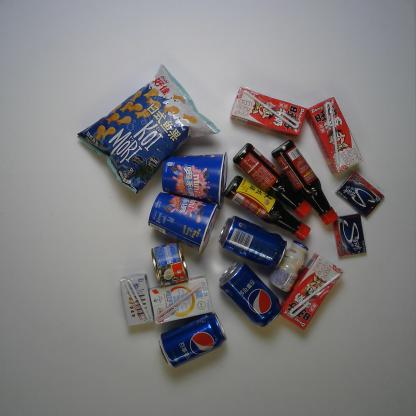Canned Food: (150, 239, 190, 288)
Dessert: (148, 192, 219, 257), (161, 151, 228, 210)
Drink: (218, 261, 283, 328), (158, 311, 227, 369), (218, 215, 288, 269)
Gum: (334, 170, 385, 219), (334, 213, 368, 258)
Milk: (279, 252, 344, 331), (306, 96, 364, 175), (228, 86, 308, 138), (149, 275, 214, 326), (268, 240, 309, 294), (118, 272, 154, 328)
Puffed Food: (76, 63, 222, 196)
Seasoner: (232, 142, 313, 219), (270, 139, 338, 226), (224, 175, 311, 241)
